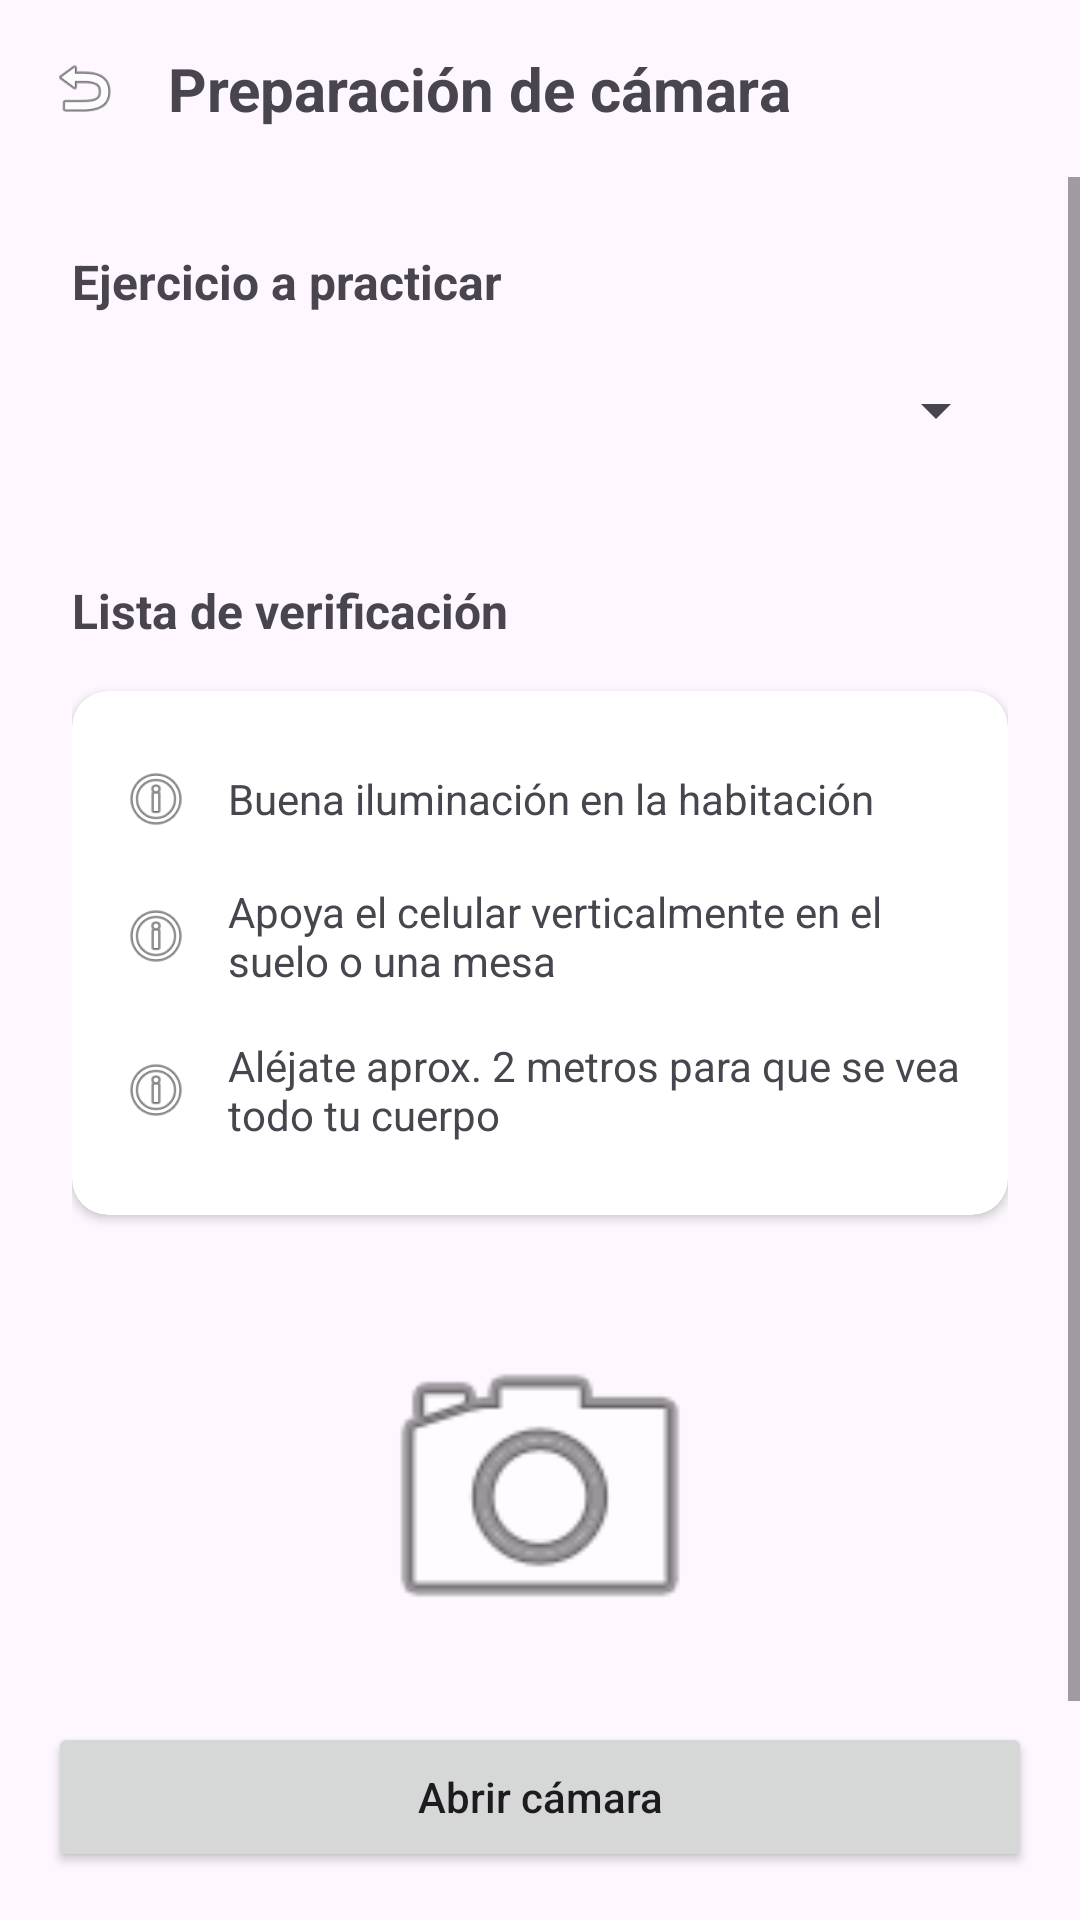

Point at icon controls on the screen. Image size 1080 × 1920, points as [x,y].
camera: [540,1485]
info details: [156,799], [156,936], [156,1090]
revert: [85,88]
